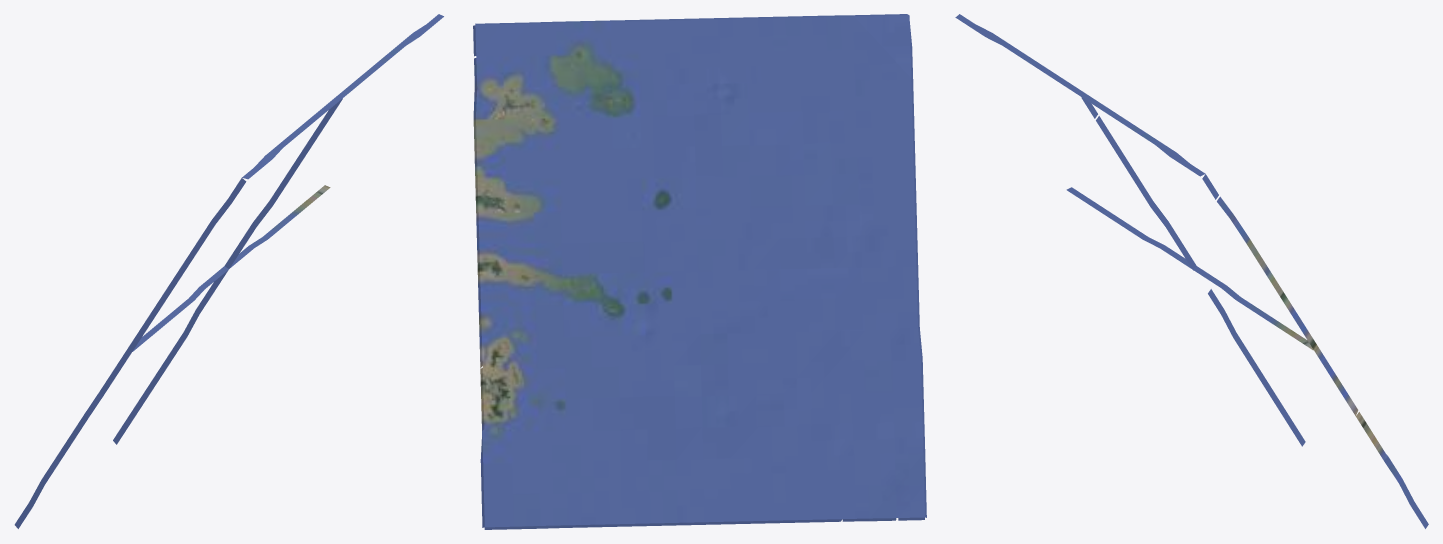
The picture shows the model from 3 angles, left to right: view 1: azimuth 30°, elevation 25°; view 2: azimuth 150°, elevation 25°; view 3: azimuth 270°, elevation 25°; orthographic projection. The views are drawn at different scales.
Bounding box in the file's own units: 158211 × 137201 × 141865.
1 material, 1 textured.
